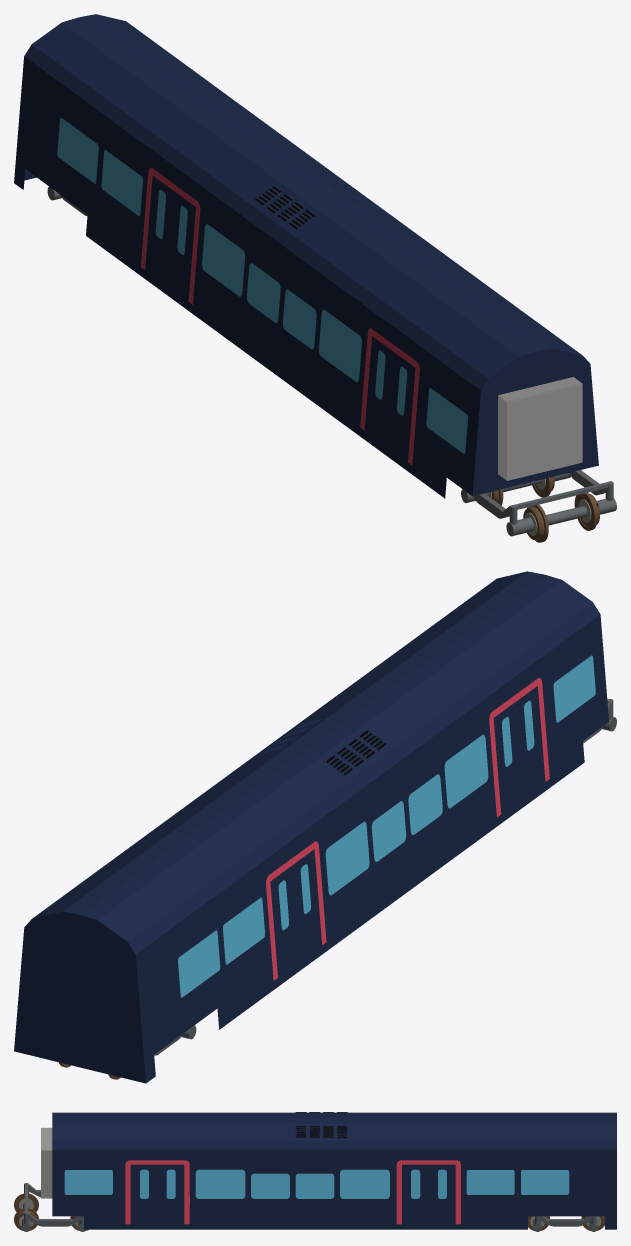
The model's file is type_76_wagon_2.fbx.
The picture shows the model from 3 angles, top to bottom: view 1: azimuth 30°, elevation 25°; view 2: azimuth 150°, elevation 25°; view 3: azimuth 270°, elevation 25°; orthographic projection. The views are drawn at different scales.
Parts seen in each view (by area): view 1: Wagon 2; view 2: Wagon 2; view 3: Wagon 2.
Part boxes in pixels (x1,y1,x2,y2): Wagon 2: (14, 14, 616, 542); Wagon 2: (14, 571, 616, 1083); Wagon 2: (14, 1112, 616, 1231).
Size of the model in its own units: 341 by 426 by 2222.
